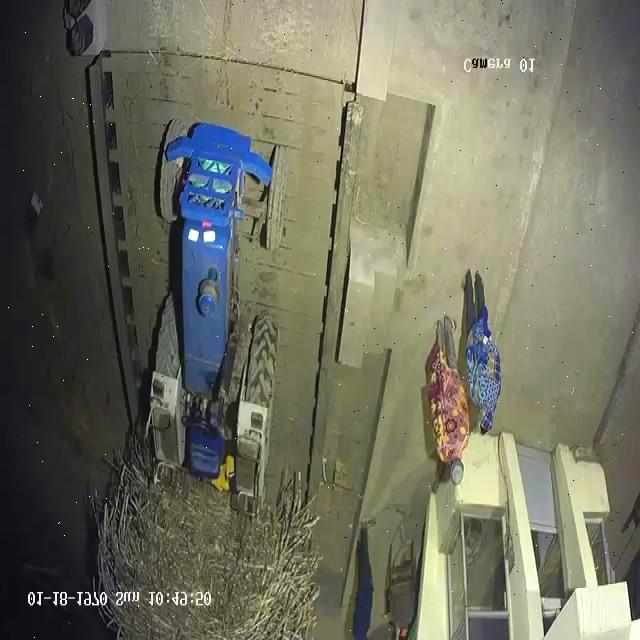Tratores - v5 YOLO V8L 2024-11-13: (138, 92, 291, 486)
